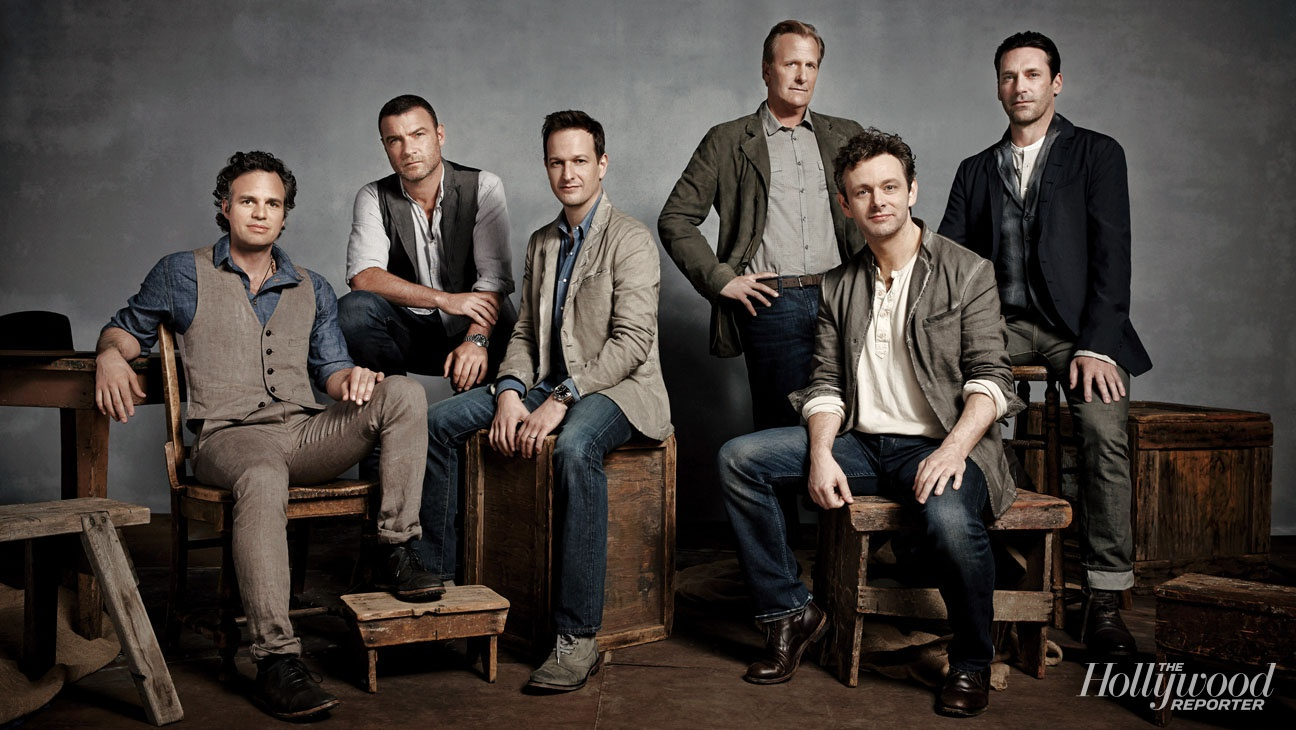bad: (536, 142, 598, 205), (992, 53, 1054, 115), (377, 115, 439, 177), (847, 170, 909, 232), (233, 188, 285, 239), (775, 49, 826, 101)
